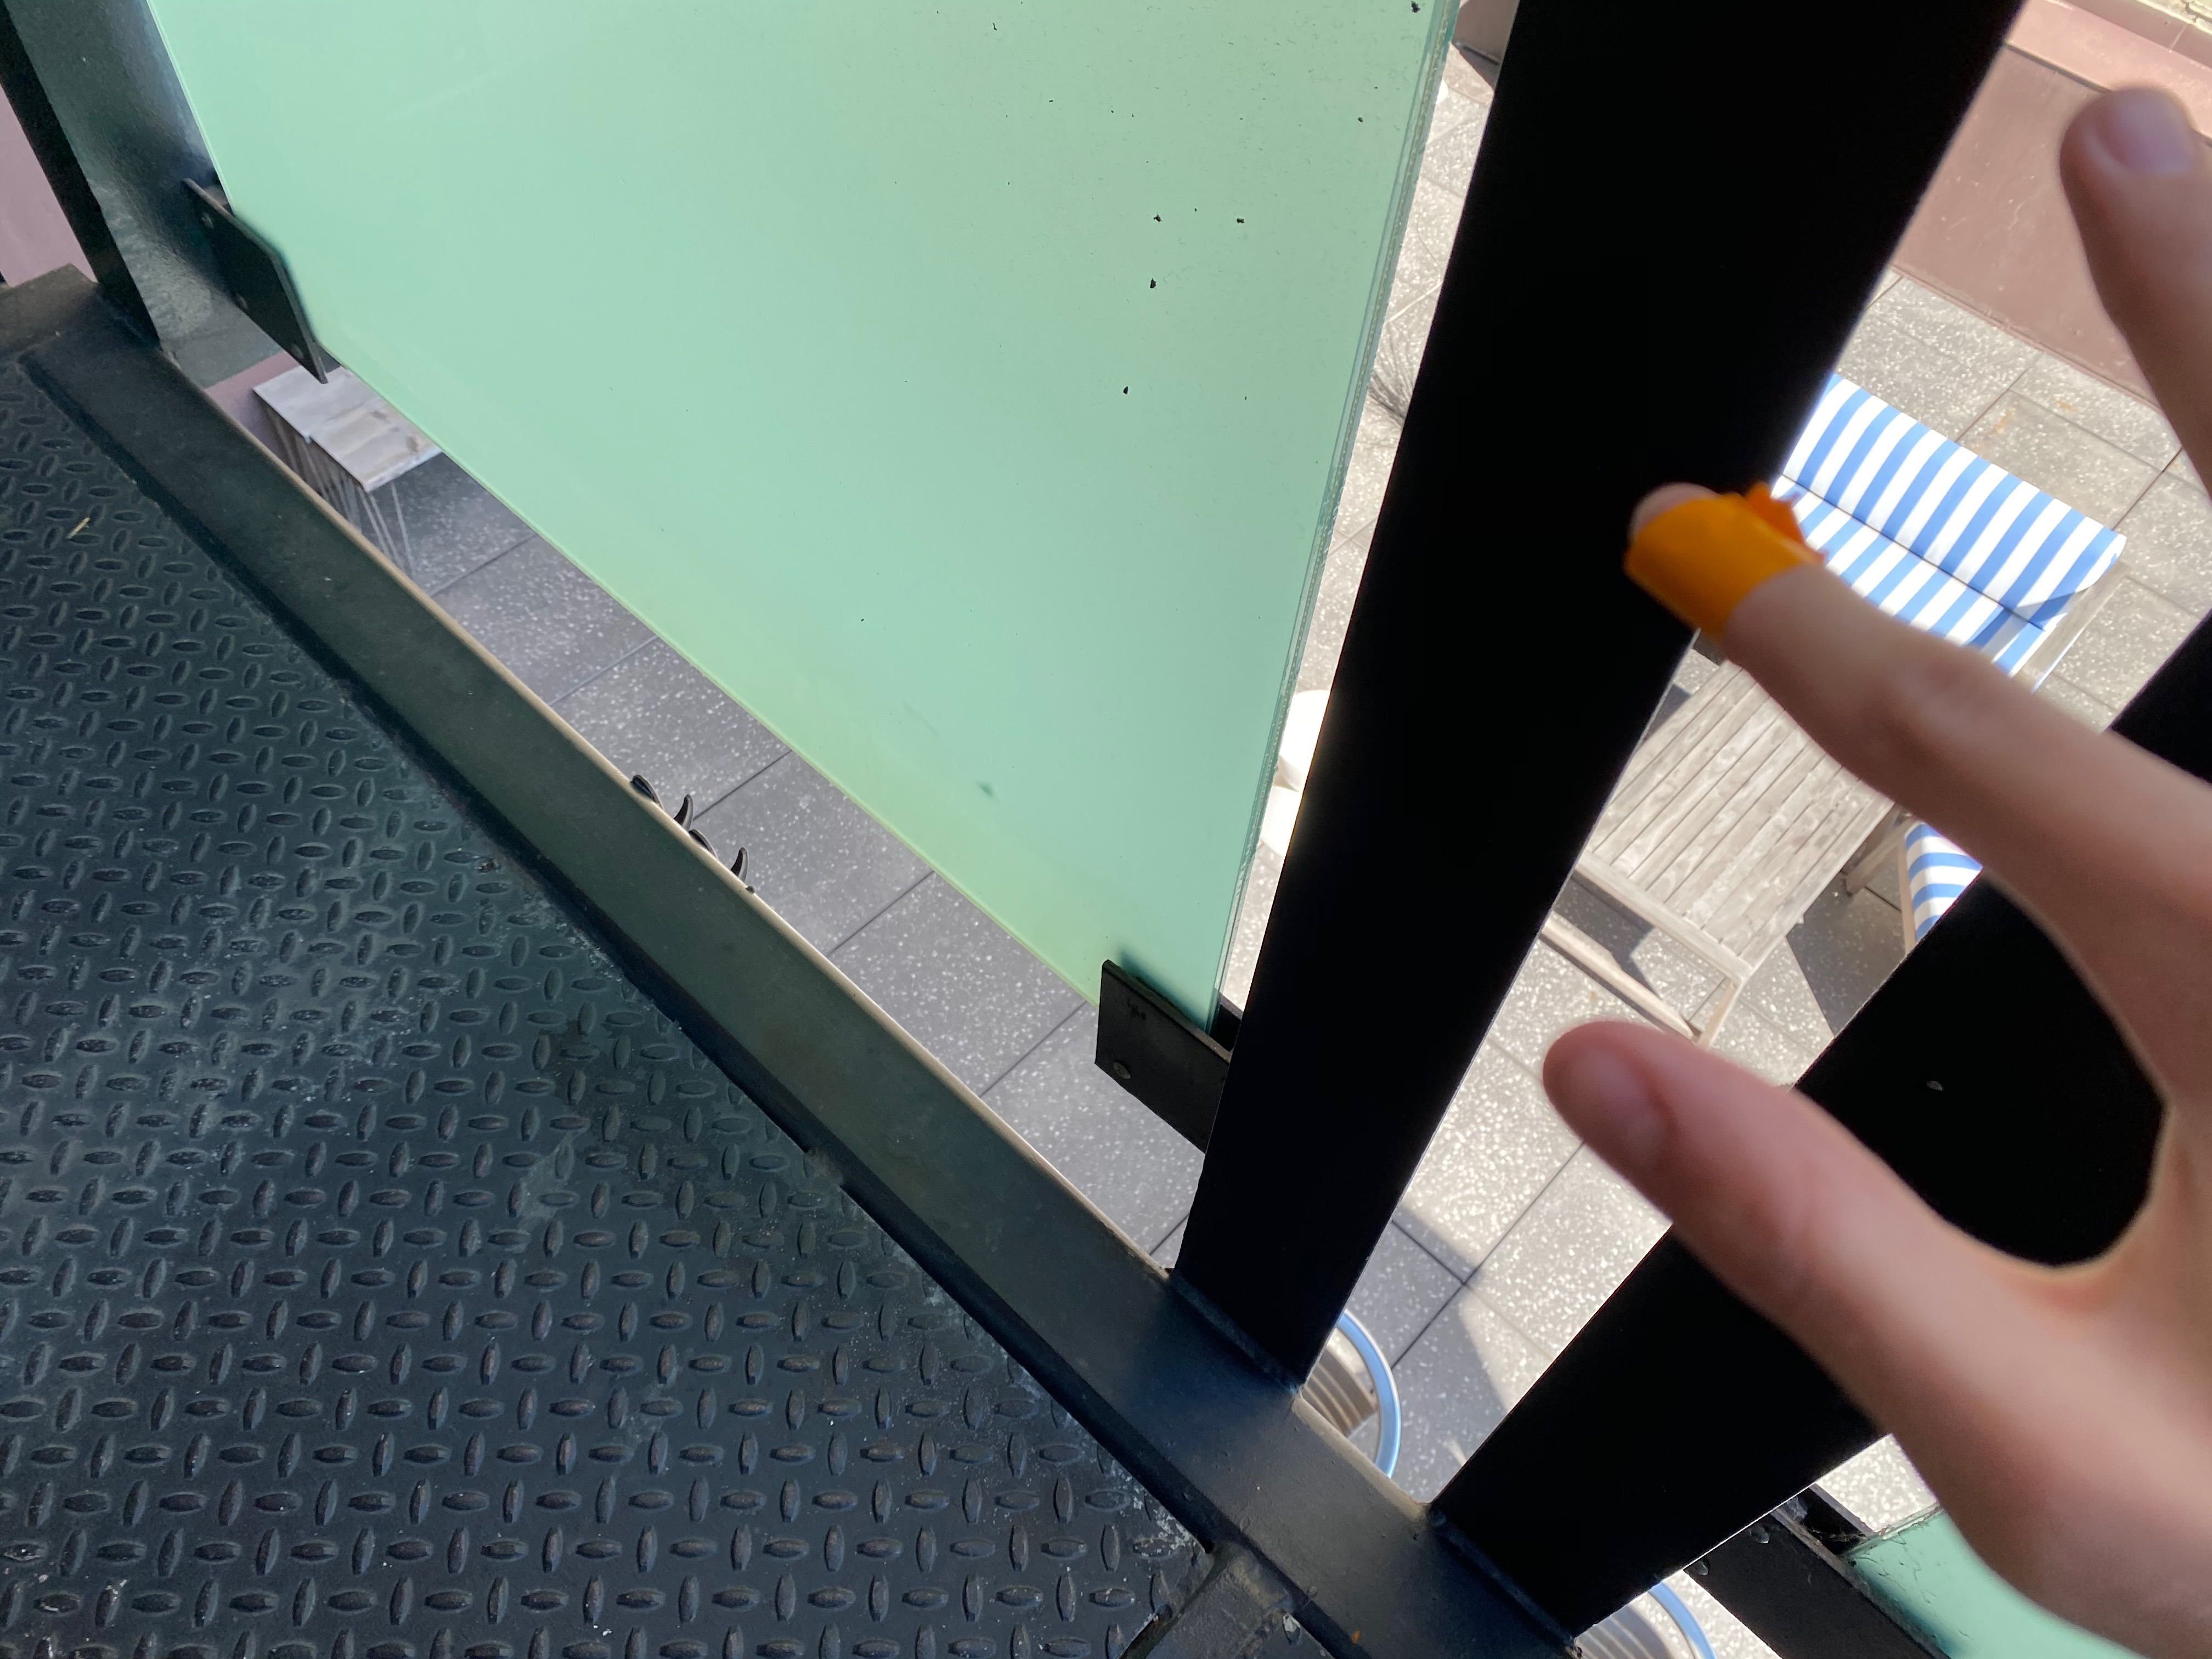fingertip: (1588, 455, 1804, 666)
